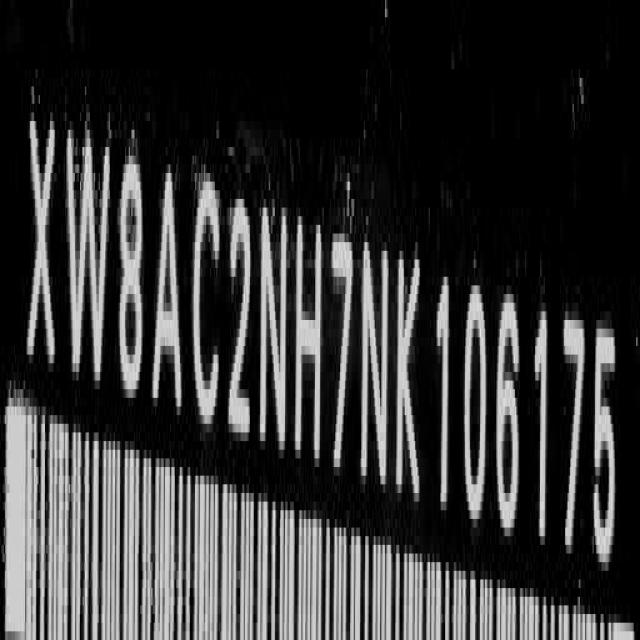0: (461, 258, 486, 532)
1: (432, 246, 452, 528), (533, 287, 551, 558)
2: (226, 185, 252, 454)
5: (594, 307, 621, 578)
6: (497, 280, 524, 542)
7: (560, 298, 584, 573), (330, 214, 354, 488)
8: (119, 144, 145, 416)
A: (152, 155, 182, 428)
C: (193, 167, 223, 443)
H: (296, 202, 324, 472)
K: (394, 230, 424, 516)
N: (364, 224, 393, 501), (262, 200, 290, 464)
W: (65, 119, 113, 402)
X: (24, 100, 58, 389)
